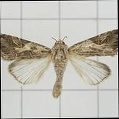Spodoptera litura: (1, 29, 119, 99)
